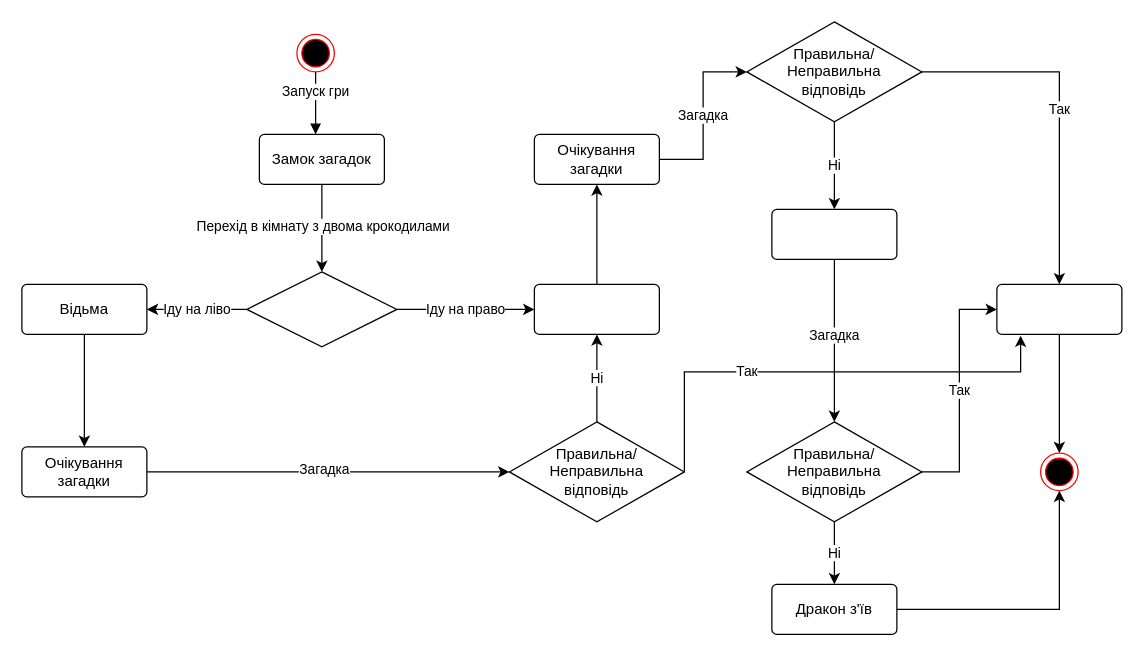
Image size: 1144x656. Some labels were removed from this diagram. The box of each missing label's shape, as (x1, y1, x2, y2) in pixels:
Вихід із замку: (996, 283, 1122, 334)
Дракон: (533, 283, 659, 334)
Направо Наліво: (246, 271, 397, 347)
Очікування загадки 2: (771, 208, 897, 259)
